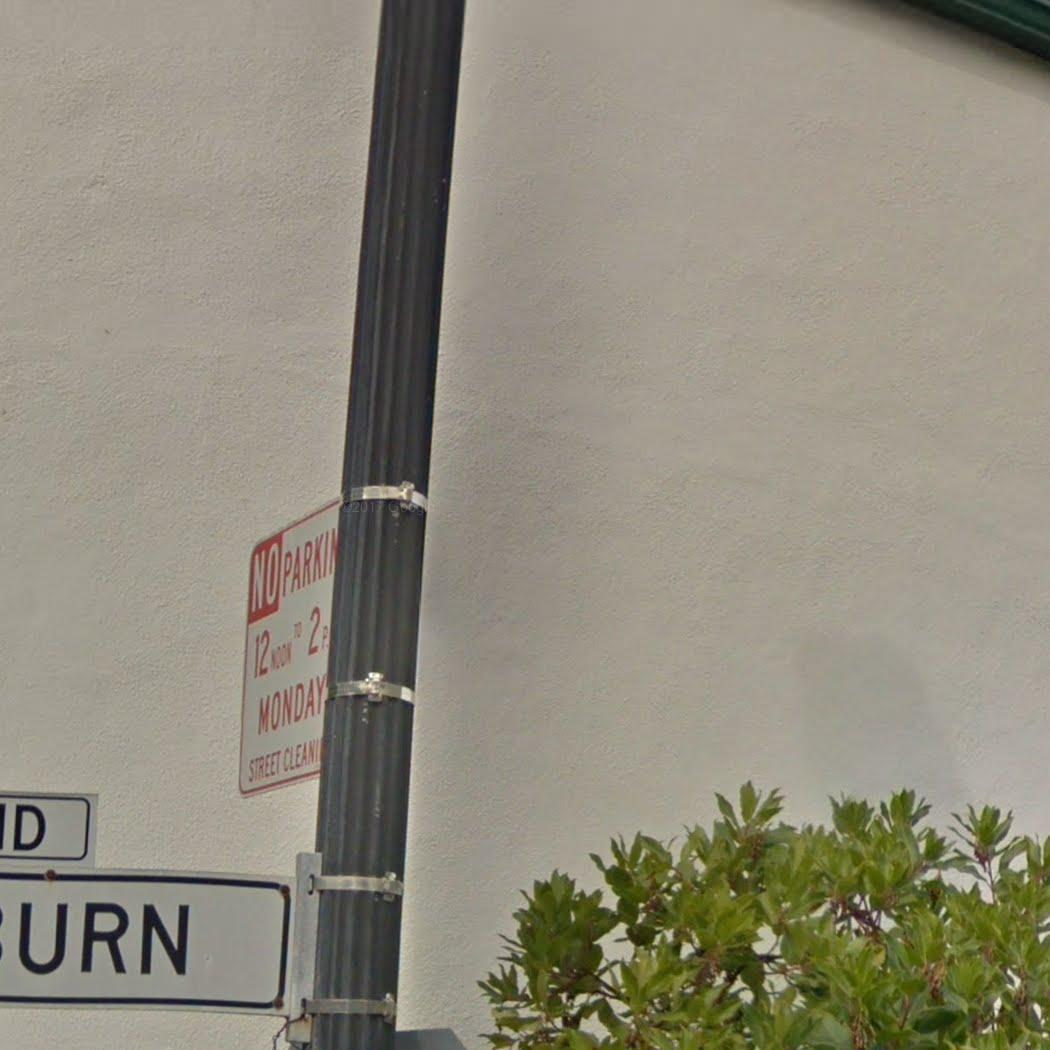No Parking: (228, 485, 353, 804)
